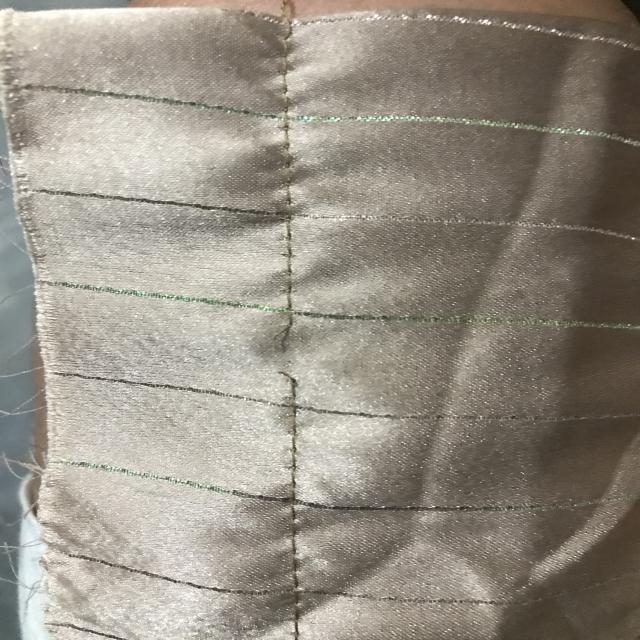broken: (272, 316, 329, 393)
good: (270, 430, 308, 558)
